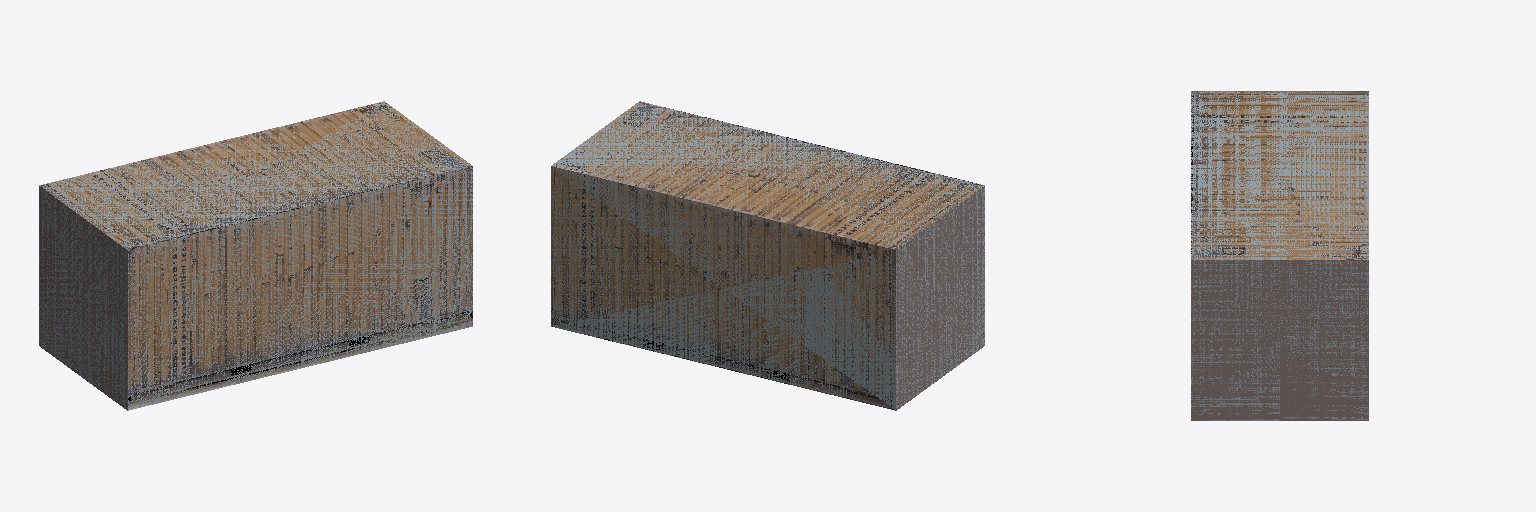
3 views of the same model, side by side, from view 1: azimuth 30°, elevation 25°; view 2: azimuth 150°, elevation 25°; view 3: azimuth 270°, elevation 25° (orthographic).
Visible parts, largest first — view 1: Mesh1 Model; view 2: Mesh1 Model; view 3: Mesh1 Model.
Boxes of the visible parts, box(x1,y1,x2,y2) form: Mesh1 Model: box(39, 101, 472, 410); Mesh1 Model: box(551, 101, 984, 410); Mesh1 Model: box(1191, 91, 1368, 420).
Size of the model in its own units: 89.69 by 39.83 by 39.83.
3 materials, 1 textured.